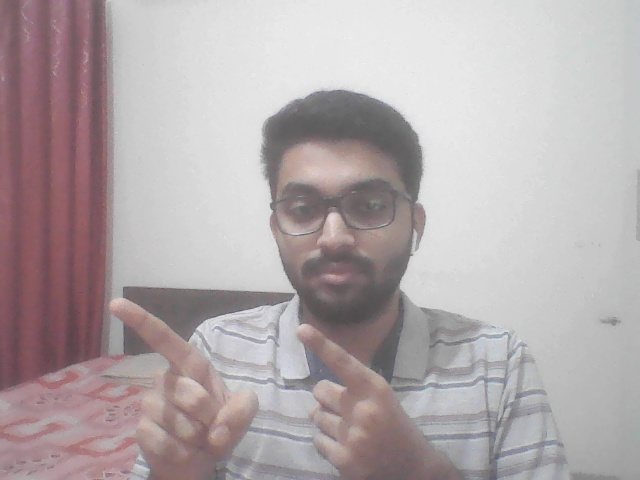go: (71, 287, 482, 478)
